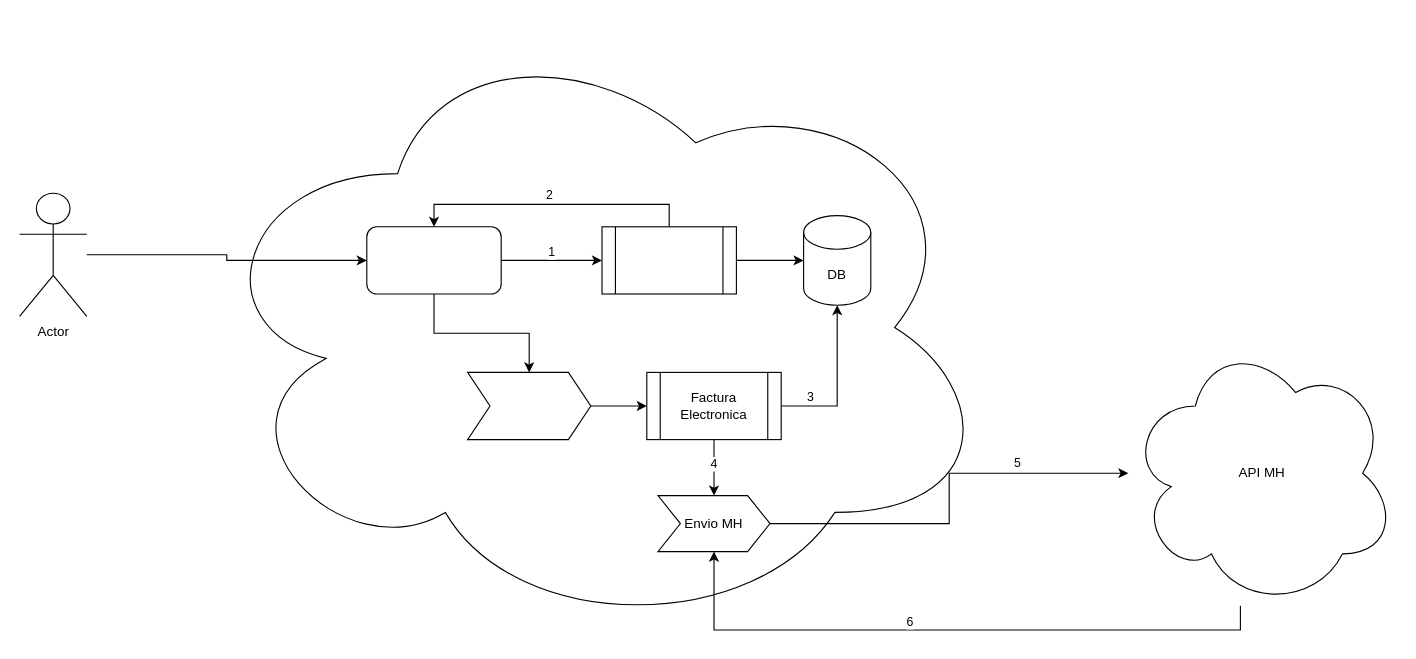
This 1416x659 diagram has some shape labels left out. The centre of each missing label's shape, as x and y in pixels:
Autenticacion: (668,260)
Autenticado: (528,405)
FrondEnd: (433,260)
